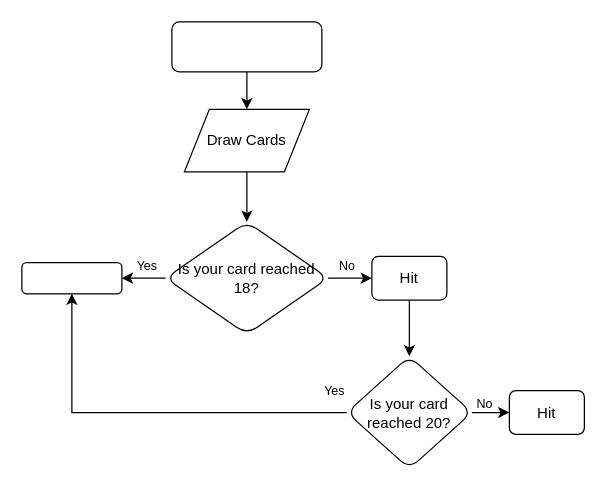
This 606x491 diagram has some shape labels left out. The centre of each missing label's shape, as x and y in pixels:
"Black Jack" belongs at point (246, 46).
"Stand" belongs at point (71, 277).
